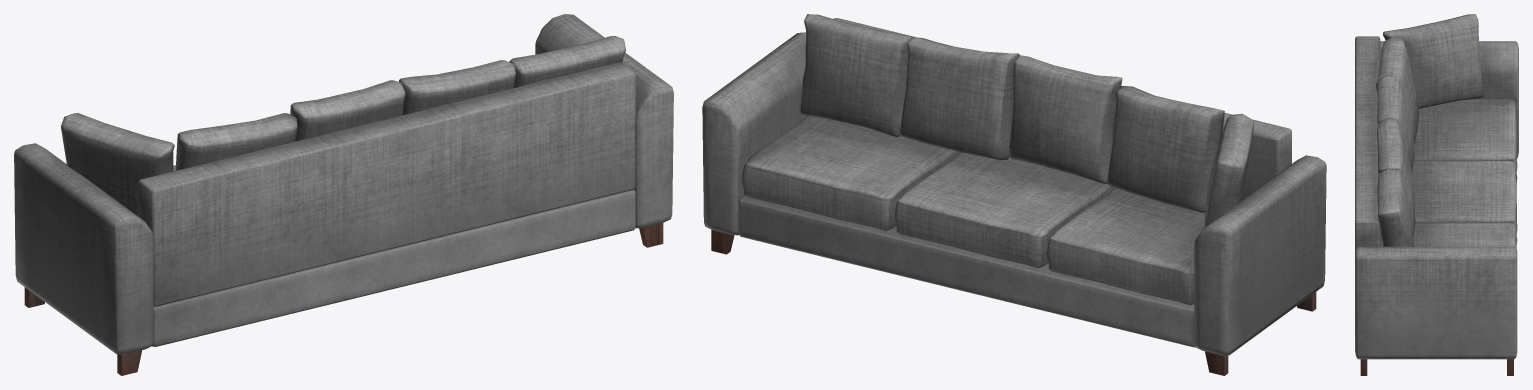
The model's file is Sofa 3.FBX.
3 renders of one model, left to right at view 1: azimuth 30°, elevation 25°; view 2: azimuth 150°, elevation 25°; view 3: azimuth 270°, elevation 25°, orthographic. The views are drawn at different scales.
Visible parts, largest first — view 1: Sofa 3; view 2: Sofa 3; view 3: Sofa 3.
Part boxes in pixels (<box>): Sofa 3: <box>14,14,673,375</box>; Sofa 3: <box>702,14,1326,375</box>; Sofa 3: <box>1355,14,1518,375</box>.
Bounding box in the file's own units: 341 × 123 × 110.
